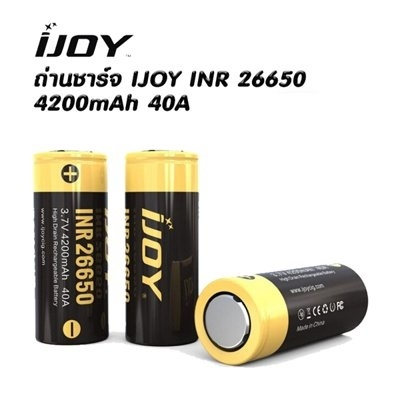Battery: (192, 259, 371, 368), (29, 147, 113, 347), (121, 146, 200, 348)
